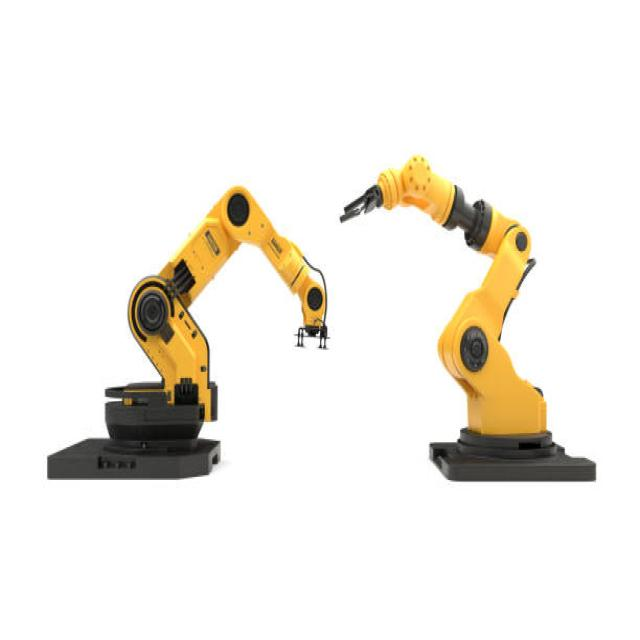Robotic-arm: (340, 151, 604, 495), (40, 176, 331, 487)
